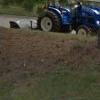Tractor: (32, 1, 100, 50)
